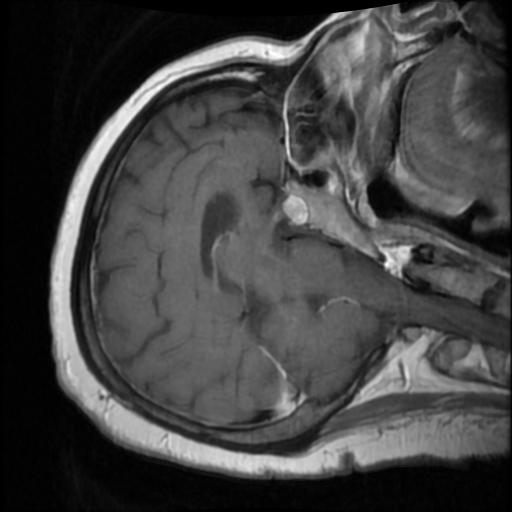pituitary tumour: (283, 197, 306, 225)
